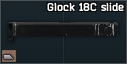Glock 18C 9x19 pistol slide: (0, 0, 127, 64)
